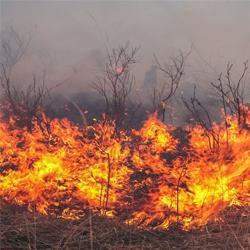fire: (4, 130, 117, 192), (182, 158, 243, 201), (143, 125, 171, 144)
